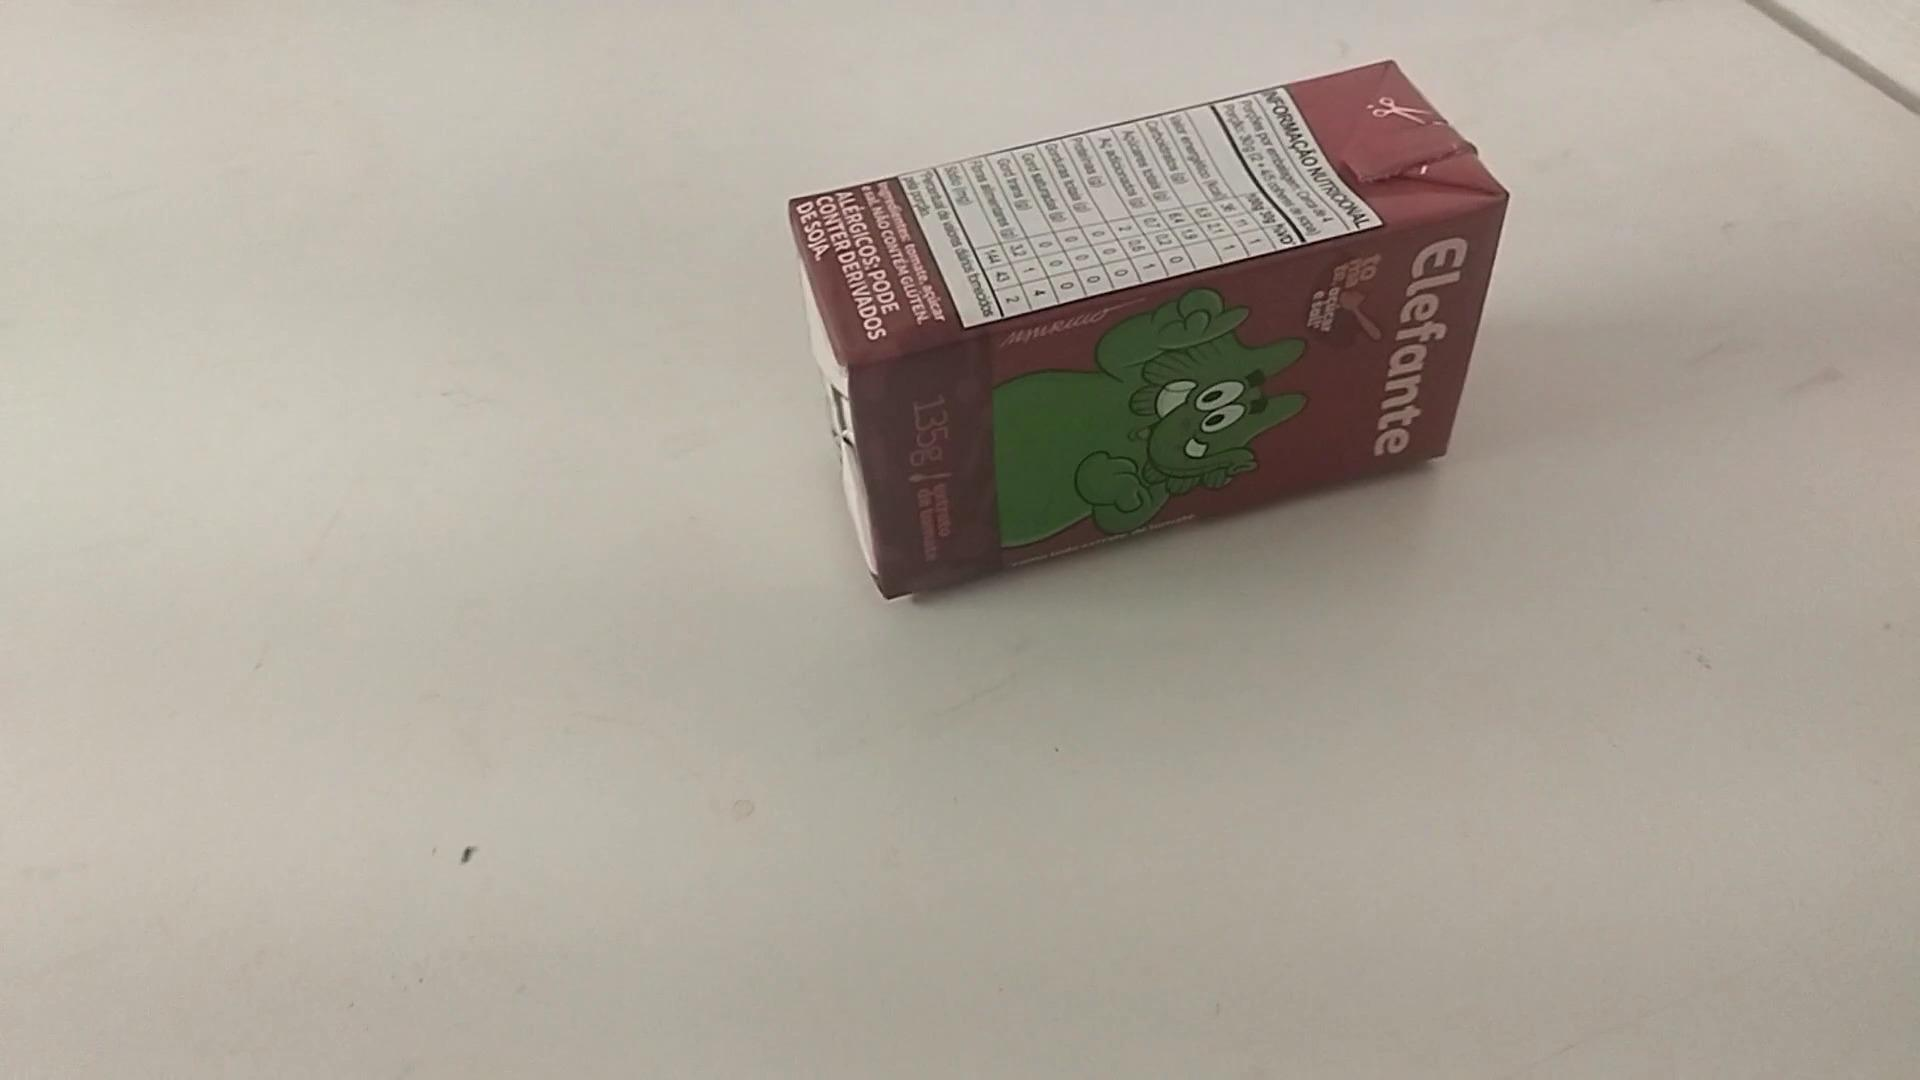tomate: (764, 50, 1515, 625)
